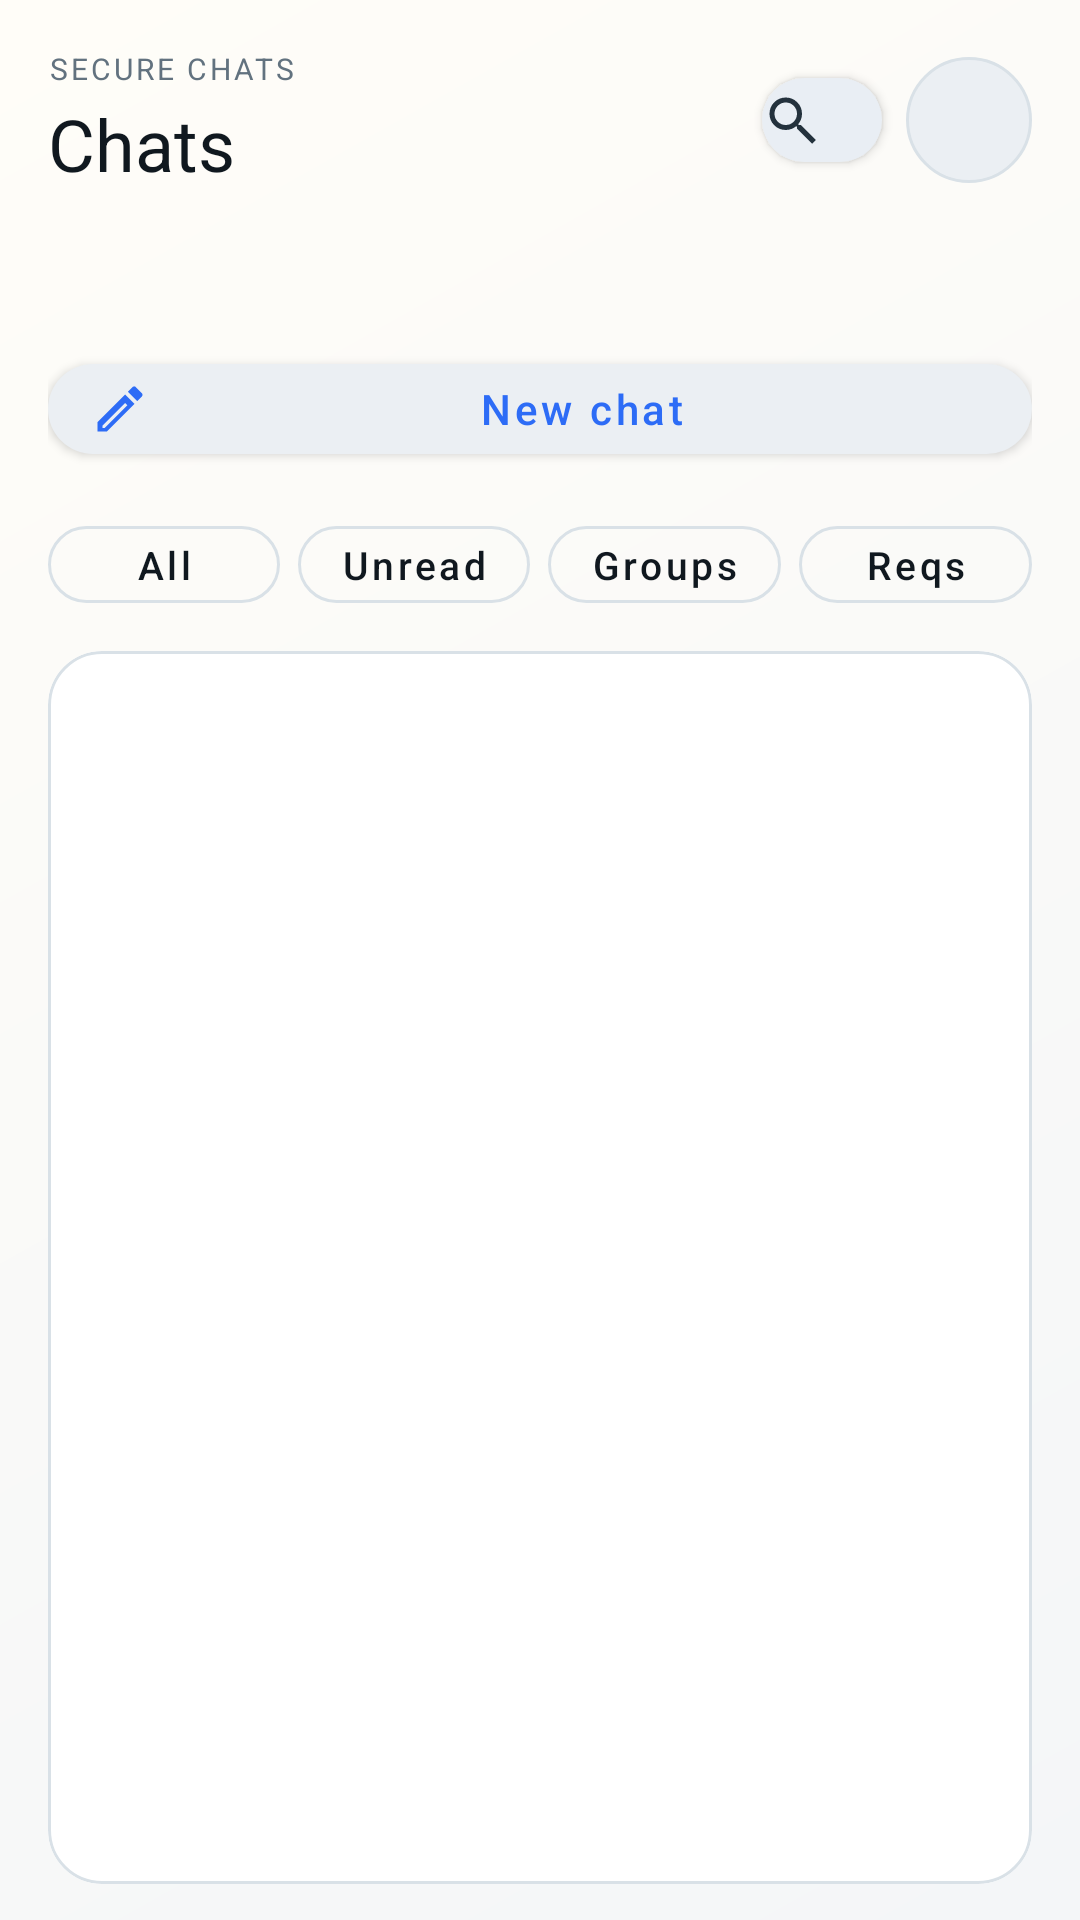

Locate icon controls on the screen. Image size 1080×1920, boxes as rect(x1, y1, x2, y2).
Search chats: rect(762, 75, 882, 166)
